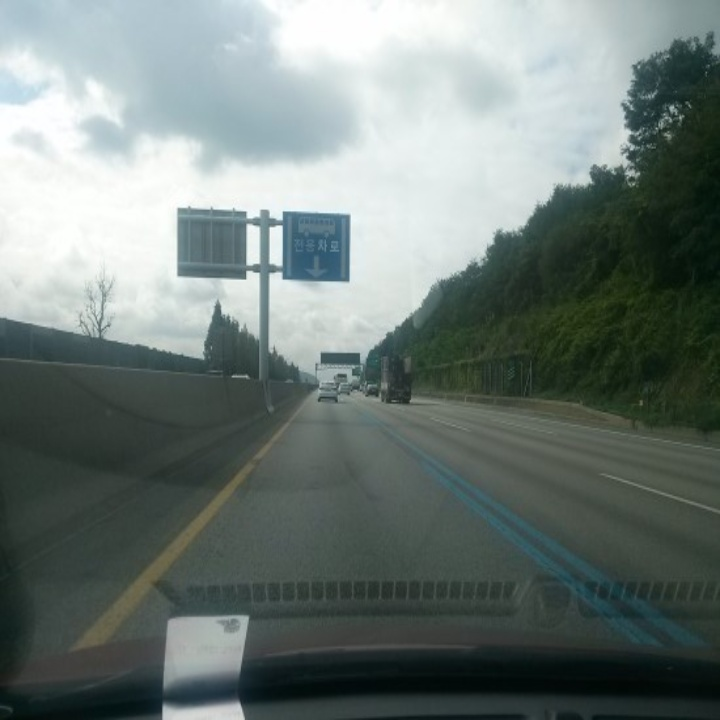bus: (289, 213, 345, 235)
